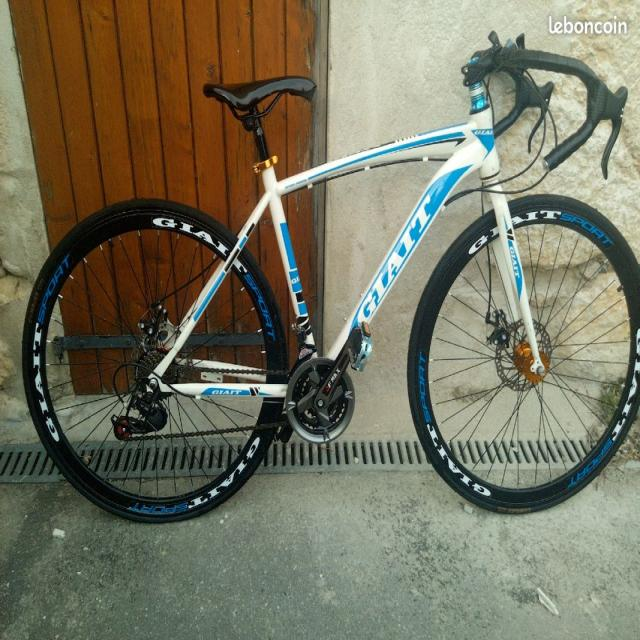Bike: (23, 32, 640, 522)
